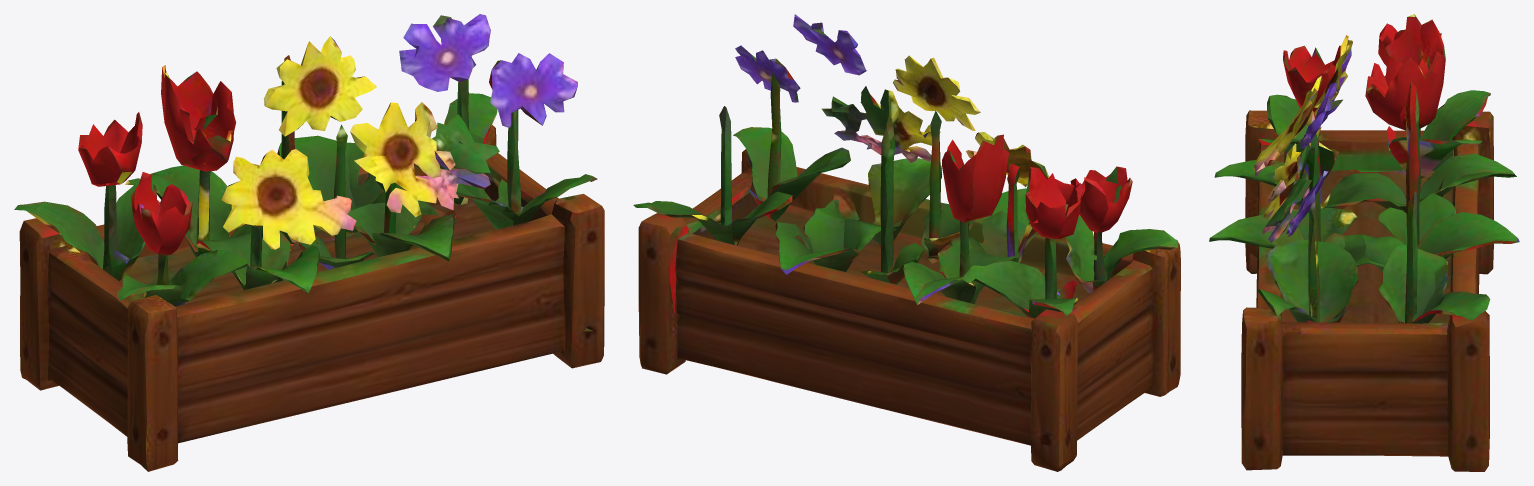
The model's file is flower_bed.glb.
3 views of the same model, side by side, from view 1: azimuth 30°, elevation 25°; view 2: azimuth 150°, elevation 25°; view 3: azimuth 270°, elevation 25° (orthographic). The views are drawn at different scales.
Visible parts, largest first — view 1: flower_bed2; view 2: flower_bed2; view 3: flower_bed2.
Part boxes in pixels (bbox=[...]): flower_bed2: bbox=[14, 14, 604, 471]; flower_bed2: bbox=[633, 14, 1180, 471]; flower_bed2: bbox=[1209, 14, 1519, 471].
Bounding box in the file's own units: 1 × 0.6769 × 0.5874.
1 material, 1 textured.
